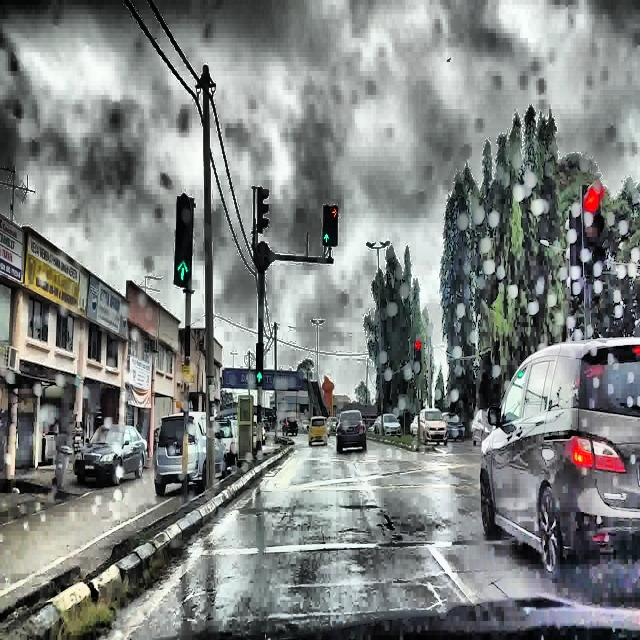green: (174, 192, 194, 284), (323, 204, 331, 243), (256, 344, 263, 383)
red: (583, 181, 602, 284), (414, 338, 422, 374), (331, 205, 338, 245)
